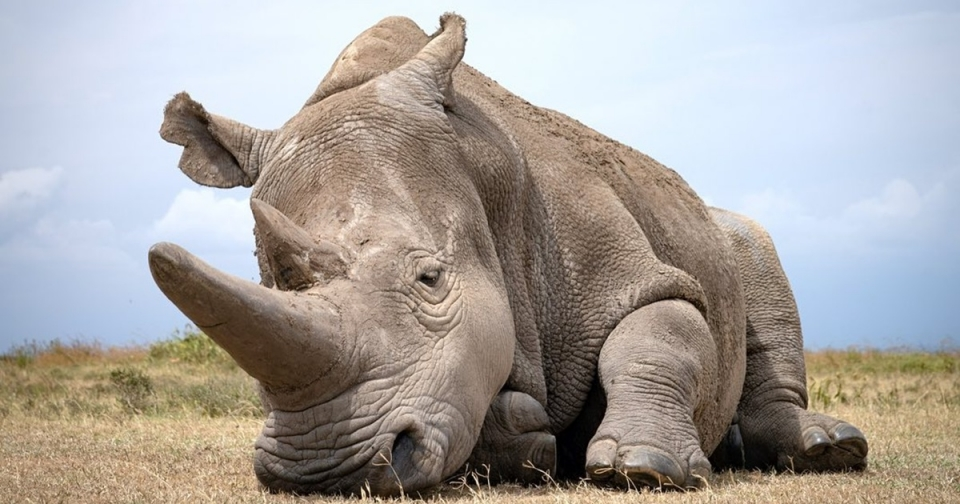Rhinoceros: (136, 3, 882, 495)
